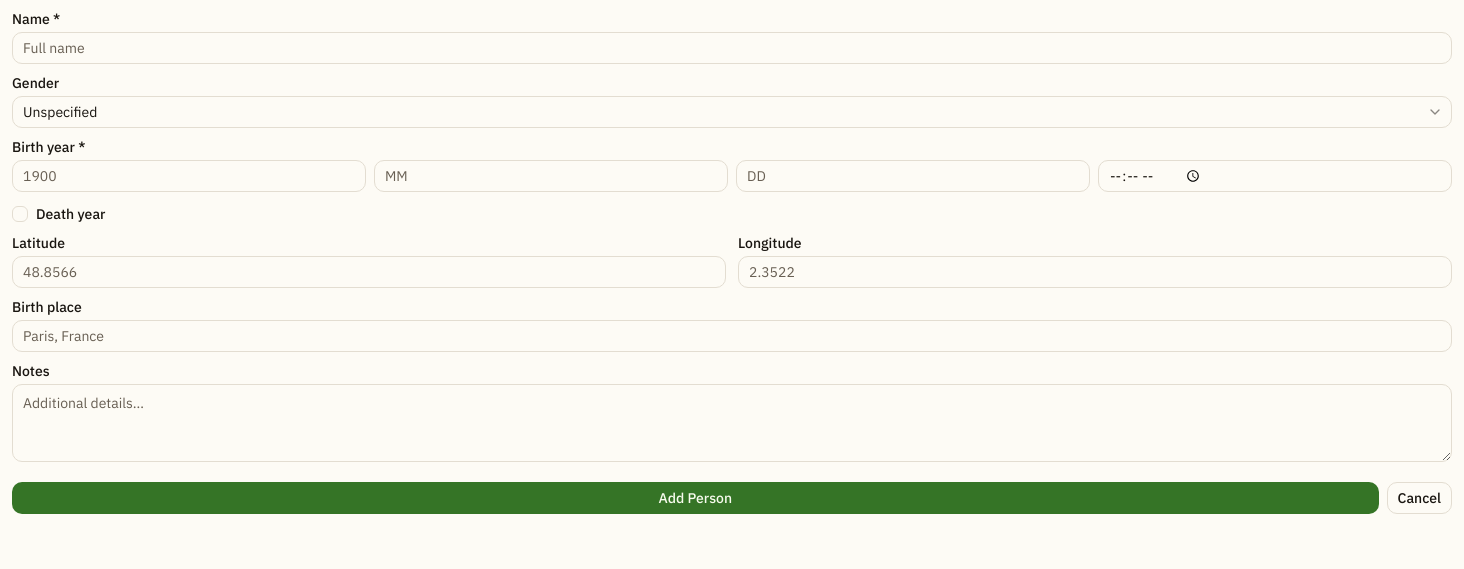
Scenario: PersonForm › reveals the death year input once the checkbox is checked
The width and height of the screenshot is (1464, 569).
What coordinates should you click on to do the following:
click the checkbox with test id "has-death-year-checkbox"
I would click on:
 (20, 214)
Its box is [12,206,28,222].
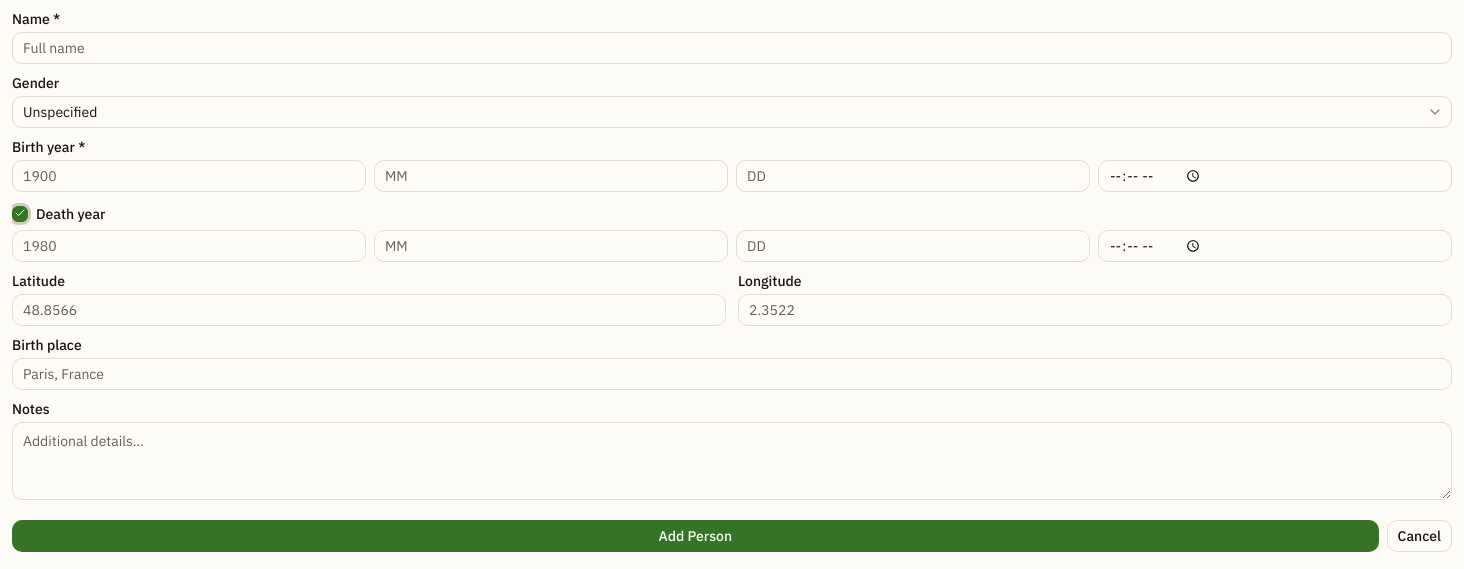
Check: the number field with test id "death-year-input" is shown, box [12,230,366,262]
What coordinates should you click on to do the following:
click the checkbox with test id "has-death-year-checkbox"
I would click on:
 (20, 214)
Its box is [12,206,28,222].
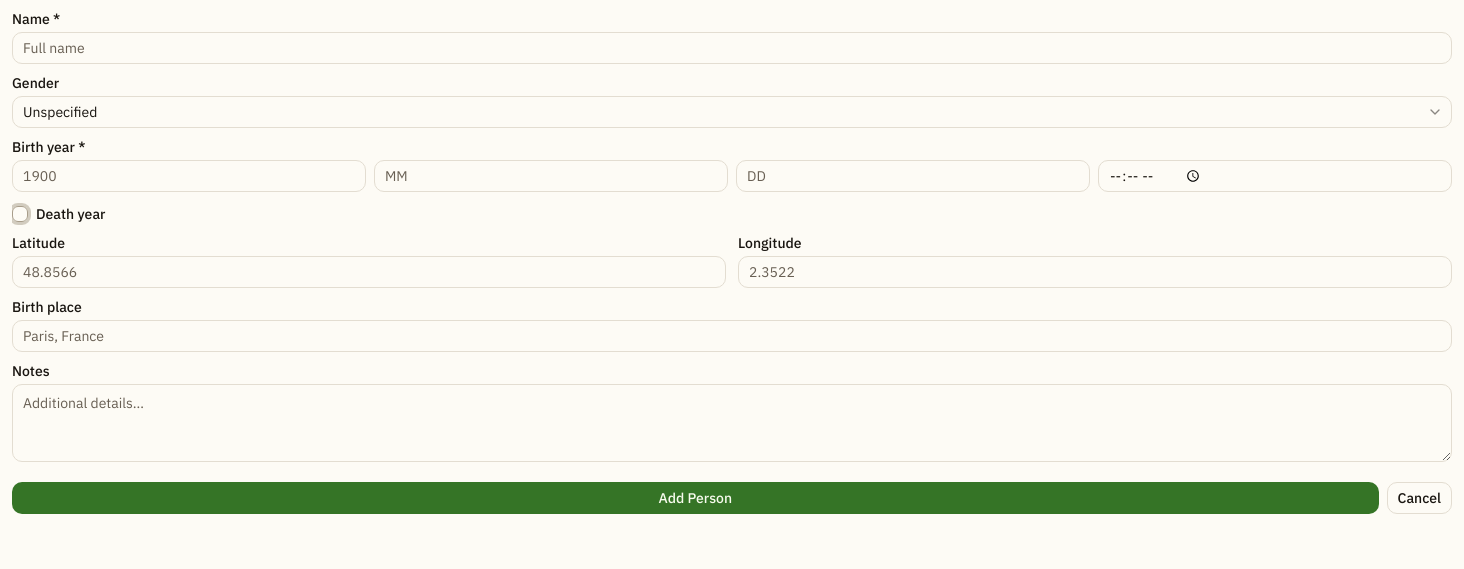
Check: the number field with test id "death-year-input" is gone
